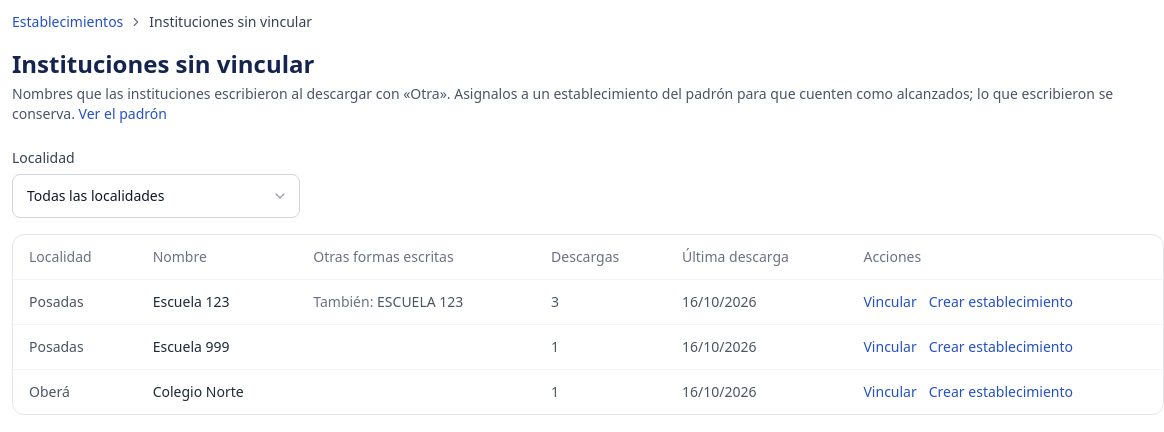
it: SinVincularPage: lista (criterio 1) › el filtro de localidad ofrece solo las localidades de los grupos y filtra en el cliente
The width and height of the screenshot is (1164, 432).
Select "Oberá" in the dropdown labelled "Localidad" at (156, 196), box [12,174,300,218]
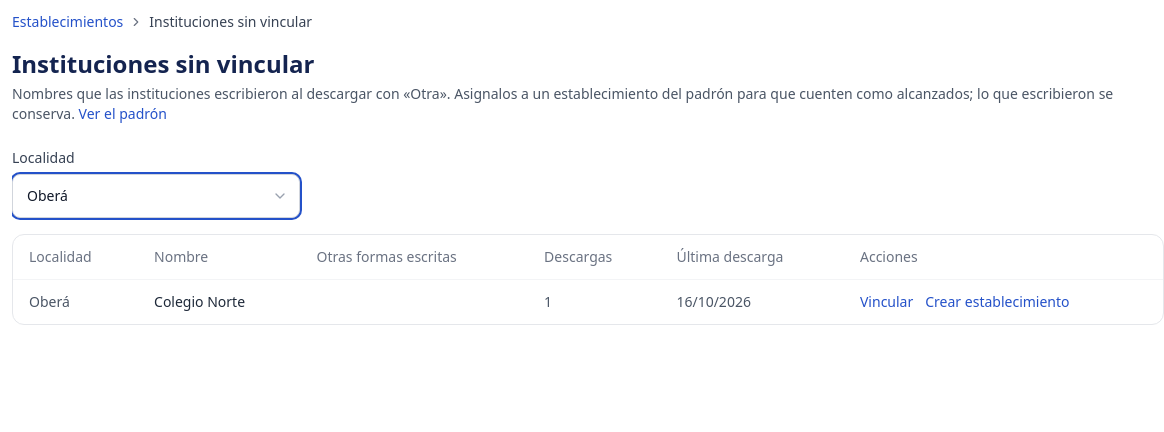
Expected: the row "Colegio Norte" is shown, [13,280,1163,324]
Result: the cell "Escuela 123" is gone
